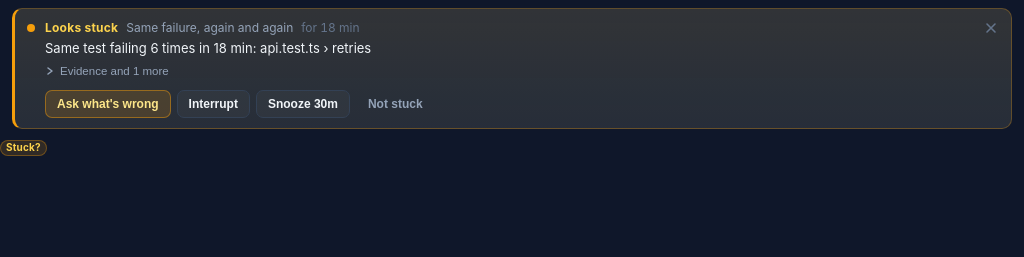
Test: StuckBanner › shows the summary, the evidence on demand, and the badge
Check: the text "Same test failing 6 times in 18 min: api.test.ts › retries" is shown, box left=45, top=40, right=371, bottom=56
Check: the text "Stuck?" is shown, box left=0, top=140, right=47, bottom=156
Click the button "Evidence and 1 more": (107, 71) left=45, top=63, right=169, bottom=79
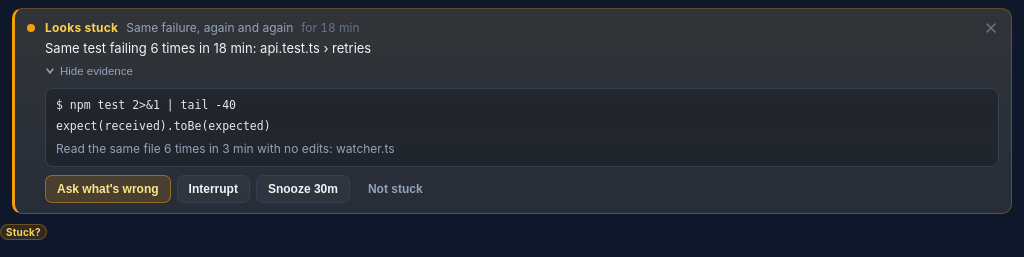
Check: the text "$ npm test 2>&1 | tail -40" is shown, box left=56, top=98, right=236, bottom=112
Check: the text "Read the same file 6 times" is shown, box left=56, top=141, right=395, bottom=156
